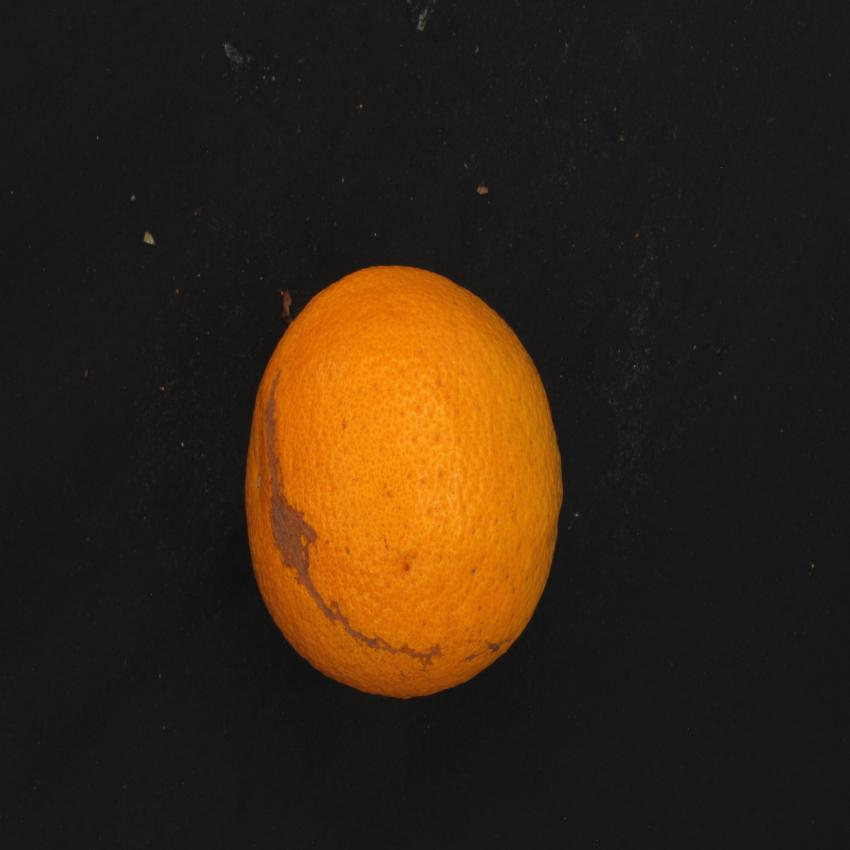Buen estado: (240, 252, 570, 711)
